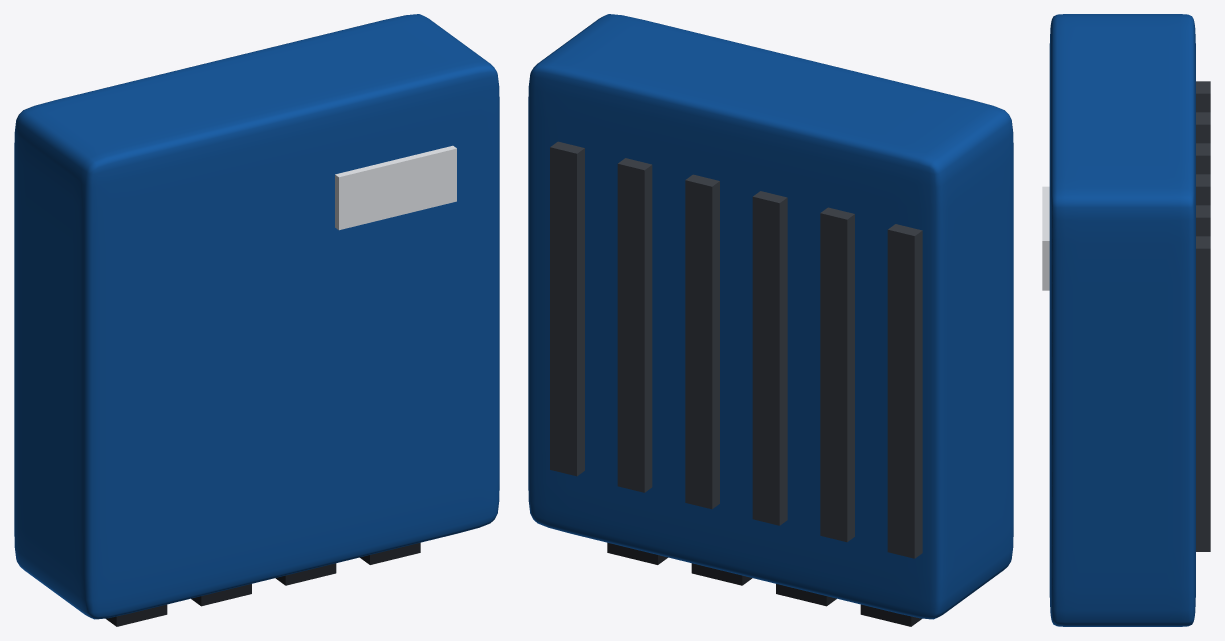
Rendered from victron_orion_xs_12_12_50.glb.
The picture shows the model from 3 angles, left to right: view 1: azimuth 30°, elevation 25°; view 2: azimuth 150°, elevation 25°; view 3: azimuth 270°, elevation 25°; orthographic projection. The views are drawn at different scales.
Visible parts, largest first — view 1: victron_orion_xs_12_12_50; view 2: victron_orion_xs_12_12_50; view 3: victron_orion_xs_12_12_50.
Part boxes in pixels (x1,y1,x2,y2): victron_orion_xs_12_12_50: [14, 14, 499, 626]; victron_orion_xs_12_12_50: [528, 14, 1013, 626]; victron_orion_xs_12_12_50: [1042, 14, 1210, 626].
Bounding box in the file's own units: 0.1231 × 0.1373 × 0.046.
